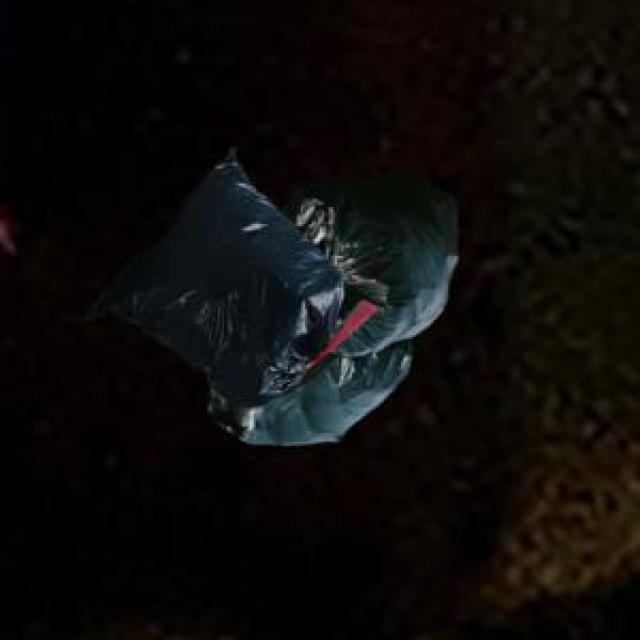Trashbag: (137, 151, 349, 377), (342, 170, 479, 355), (220, 347, 412, 451)
